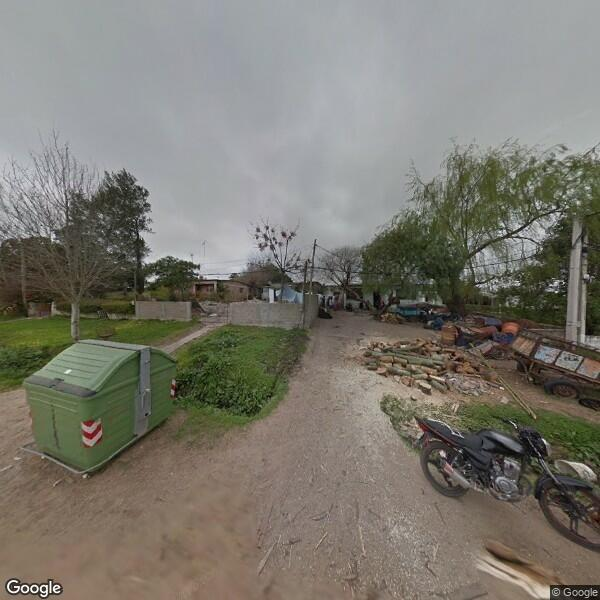Trash: (21, 335, 179, 479)
